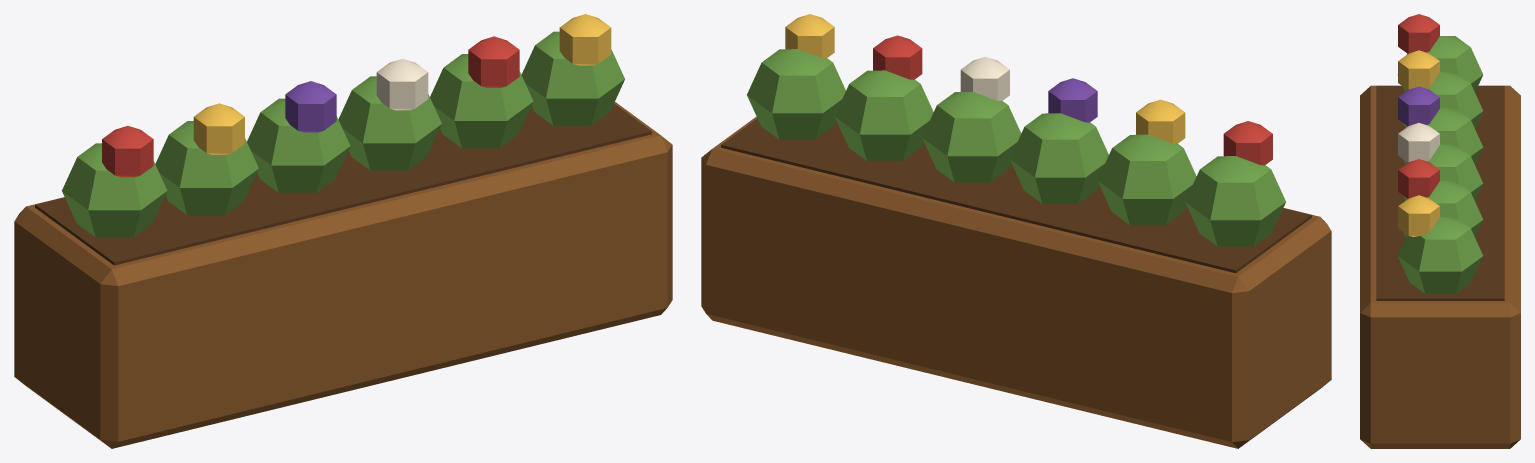
File: PR_Decor_CicekKutusu.fbx
3 views of the same model, side by side, from view 1: azimuth 30°, elevation 25°; view 2: azimuth 150°, elevation 25°; view 3: azimuth 270°, elevation 25° (orthographic). The views are drawn at different scales.
Visible parts, largest first — view 1: PR_Decor_CicekKutusu; view 2: PR_Decor_CicekKutusu; view 3: PR_Decor_CicekKutusu.
Boxes of the visible parts, box(x1,y1,x2,y2) form: PR_Decor_CicekKutusu: box(14, 14, 672, 448); PR_Decor_CicekKutusu: box(701, 14, 1331, 448); PR_Decor_CicekKutusu: box(1360, 14, 1520, 448).
Size of the model in its own units: 1 by 0.485 by 0.3.
